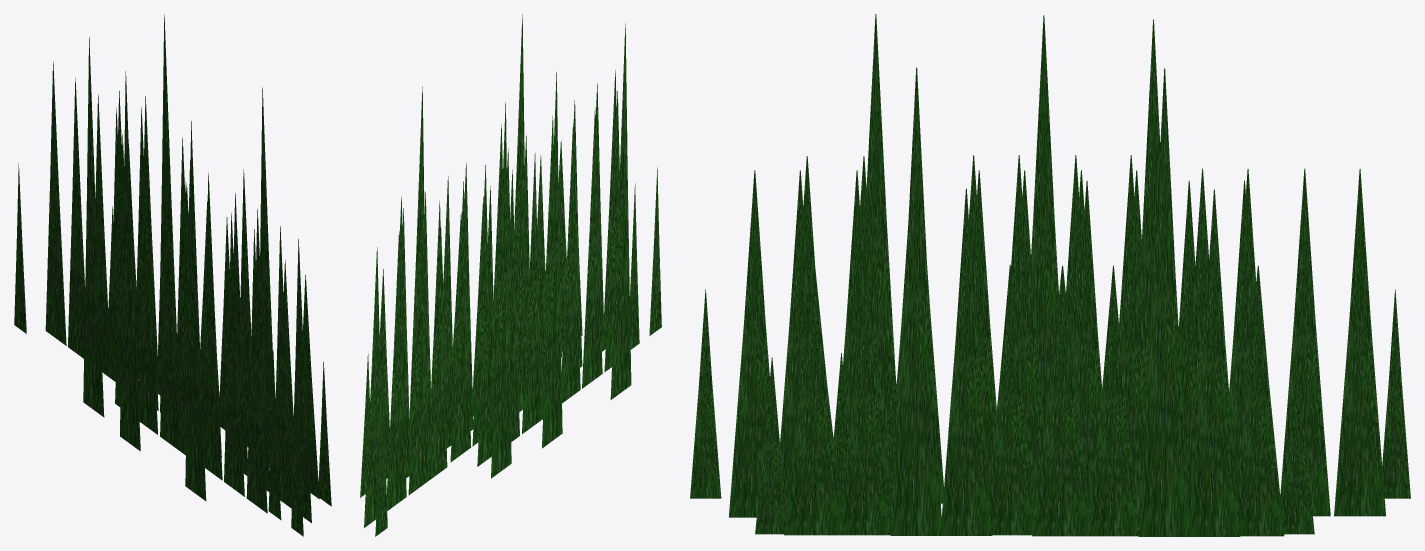
Rendered from grass_model.fbx.
The picture shows the model from 3 angles, left to right: view 1: azimuth 30°, elevation 25°; view 2: azimuth 150°, elevation 25°; view 3: azimuth 270°, elevation 25°; orthographic projection. The views are drawn at different scales.
Parts seen in each view (by area): view 1: pCube45; view 2: pCube45; view 3: pCube45.
Part boxes in pixels (bbox=[...]): pCube45: bbox=[14, 14, 331, 536]; pCube45: bbox=[360, 14, 661, 536]; pCube45: bbox=[690, 14, 1410, 536].
Bounding box in the file's own units: 0.8945 × 3.42 × 4.79.
1 material, 1 textured.
